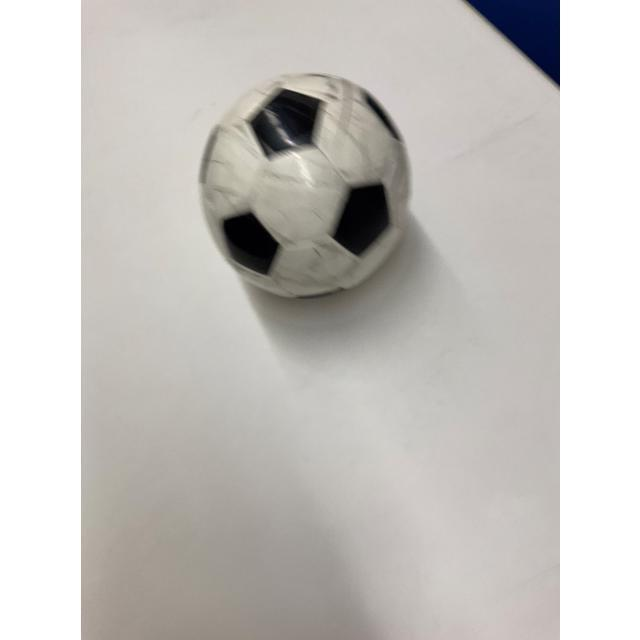Sports-Ball: (202, 74, 410, 296)
